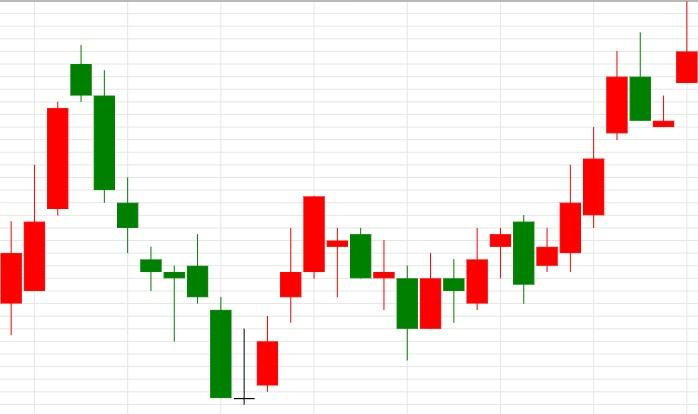bearish_engulfing_fall: (396, 214, 535, 361)
morning_star_rise: (70, 46, 278, 405)
three_black_crows_fall: (0, 46, 139, 336)
